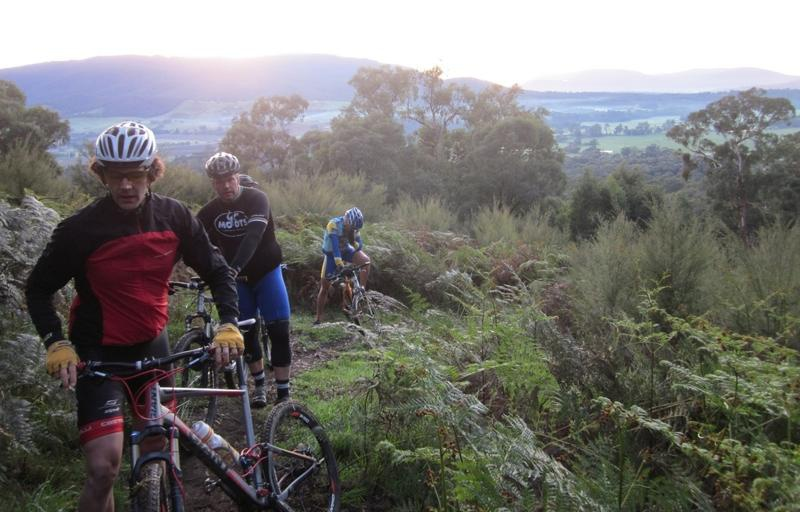non-vehicle: (54, 325, 347, 510), (160, 270, 252, 452), (330, 258, 383, 342)
